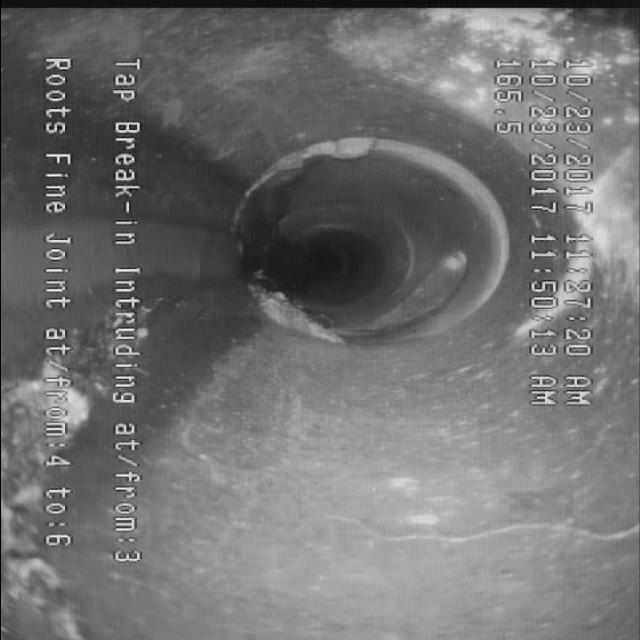Crack: (368, 506, 624, 562)
